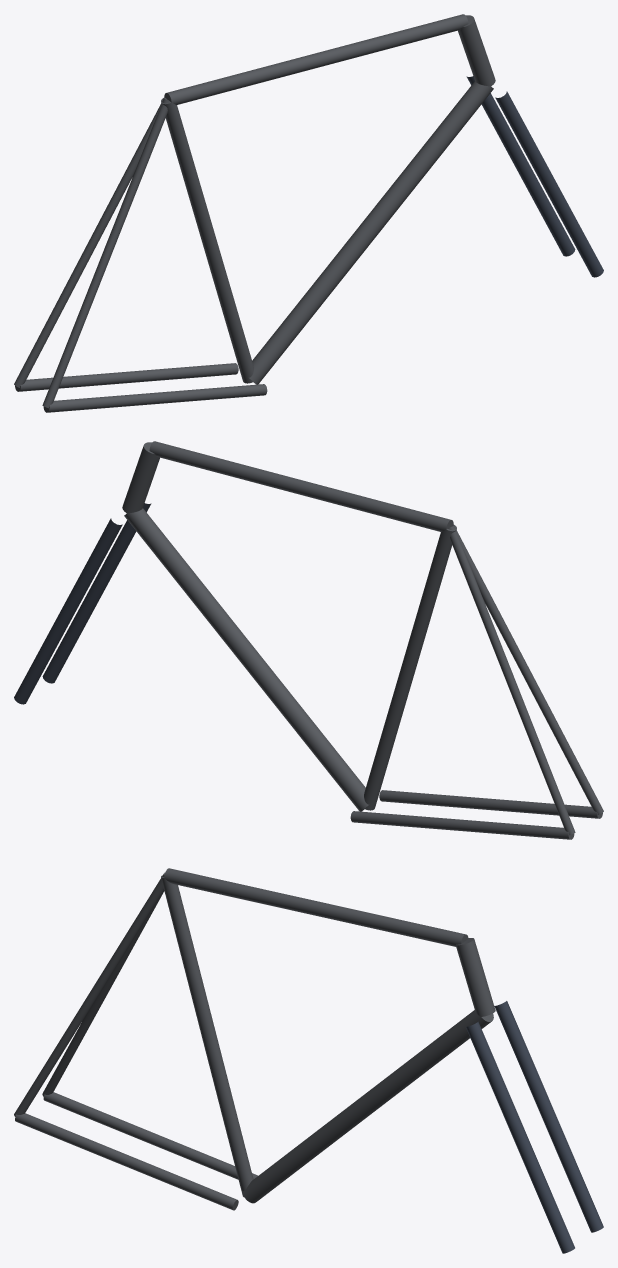
Rendered from wabi-prism-54.glb.
3 renders of one model, top to bottom at view 1: azimuth 30°, elevation 25°; view 2: azimuth 150°, elevation 25°; view 3: azimuth 330°, elevation 25°, orthographic.
Parts seen in each view (by area): view 1: paint_down, paint_top, paint_seat, paint_seatstay_0.045, fork_0.045, paint_seatstay_-0.045, paint_chainstay_0.045, fork_-0.045, paint_chainstay_-0.045, paint_head; view 2: paint_down, paint_top, paint_seat, paint_seatstay_-0.045, fork_-0.045, paint_seatstay_0.045, paint_chainstay_-0.045, fork_0.045, paint_chainstay_0.045, paint_head; view 3: paint_down, paint_seat, paint_top, fork_0.045, fork_-0.045, paint_chainstay_0.045, paint_seatstay_0.045, paint_chainstay_-0.045, paint_seatstay_-0.045, paint_head.
Boxes of the visible parts, x1=… form: paint_down: x1=249, y1=81, x2=493, y2=384; paint_top: x1=164, y1=14, x2=468, y2=104; paint_seat: x1=161, y1=97, x2=253, y2=383; paint_seatstay_0.045: x1=42, y1=99, x2=169, y2=408; fork_0.045: x1=495, y1=91, x2=603, y2=277; paint_seatstay_-0.045: x1=14, y1=97, x2=167, y2=387; paint_chainstay_0.045: x1=43, y1=384, x2=267, y2=412; fork_-0.045: x1=466, y1=76, x2=575, y2=256; paint_chainstay_-0.045: x1=15, y1=363, x2=238, y2=391; paint_head: x1=458, y1=15, x2=495, y2=86; paint_down: x1=124, y1=508, x2=368, y2=811; paint_top: x1=149, y1=441, x2=453, y2=531; paint_seat: x1=364, y1=524, x2=456, y2=810; paint_seatstay_-0.045: x1=448, y1=526, x2=575, y2=835; fork_-0.045: x1=14, y1=518, x2=122, y2=704; paint_seatstay_0.045: x1=450, y1=524, x2=603, y2=814; paint_chainstay_-0.045: x1=350, y1=811, x2=574, y2=839; fork_0.045: x1=42, y1=503, x2=151, y2=683; paint_chainstay_0.045: x1=379, y1=790, x2=602, y2=818; paint_head: x1=122, y1=442, x2=159, y2=513; paint_down: x1=242, y1=1010, x2=493, y2=1203; paint_seat: x1=161, y1=875, x2=253, y2=1196; paint_top: x1=164, y1=868, x2=468, y2=946; fork_0.045: x1=466, y1=1021, x2=574, y2=1253; fork_-0.045: x1=494, y1=1001, x2=603, y2=1232; paint_chainstay_0.045: x1=15, y1=1113, x2=238, y2=1210; paint_seatstay_0.045: x1=14, y1=873, x2=164, y2=1116; paint_chainstay_-0.045: x1=43, y1=1092, x2=257, y2=1179; paint_seatstay_-0.045: x1=42, y1=872, x2=165, y2=1096; paint_head: x1=456, y1=938, x2=495, y2=1016.
Bounding box in the file's own units: 1.02 × 0.5526 × 0.112.
